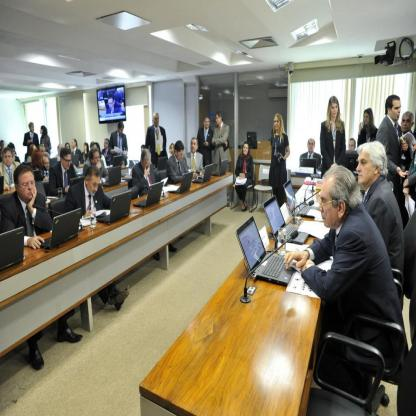board: (236, 213, 295, 285), (262, 194, 310, 246), (35, 207, 82, 252), (284, 178, 318, 220), (95, 191, 132, 226), (0, 224, 24, 271), (132, 181, 164, 209), (168, 170, 194, 195), (192, 163, 214, 185), (101, 164, 122, 187), (63, 176, 85, 197), (211, 158, 229, 178), (300, 157, 318, 174), (34, 180, 47, 202), (157, 156, 167, 170), (33, 170, 45, 181), (113, 154, 122, 165), (49, 158, 57, 170), (72, 153, 79, 166), (0, 174, 3, 193)
